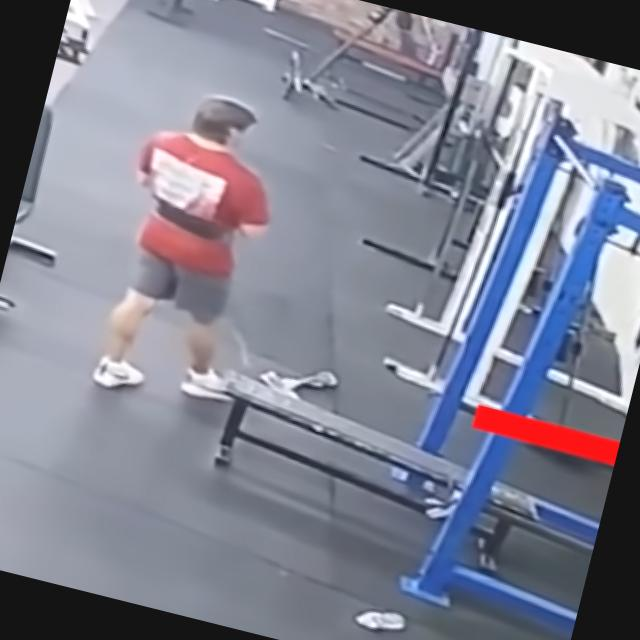person: (80, 76, 300, 416)
